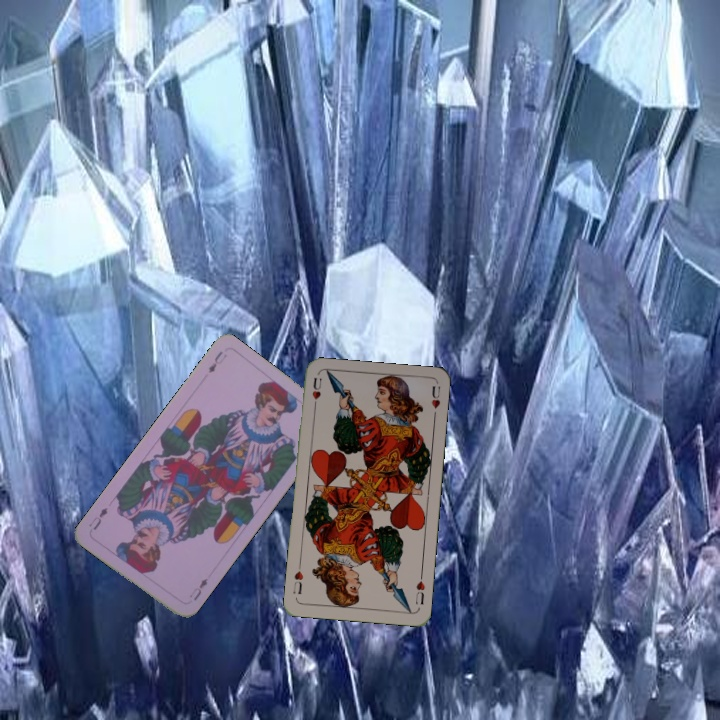EU: (185, 571, 213, 604), (204, 347, 230, 376)
HU: (308, 374, 324, 412), (411, 570, 427, 607)
